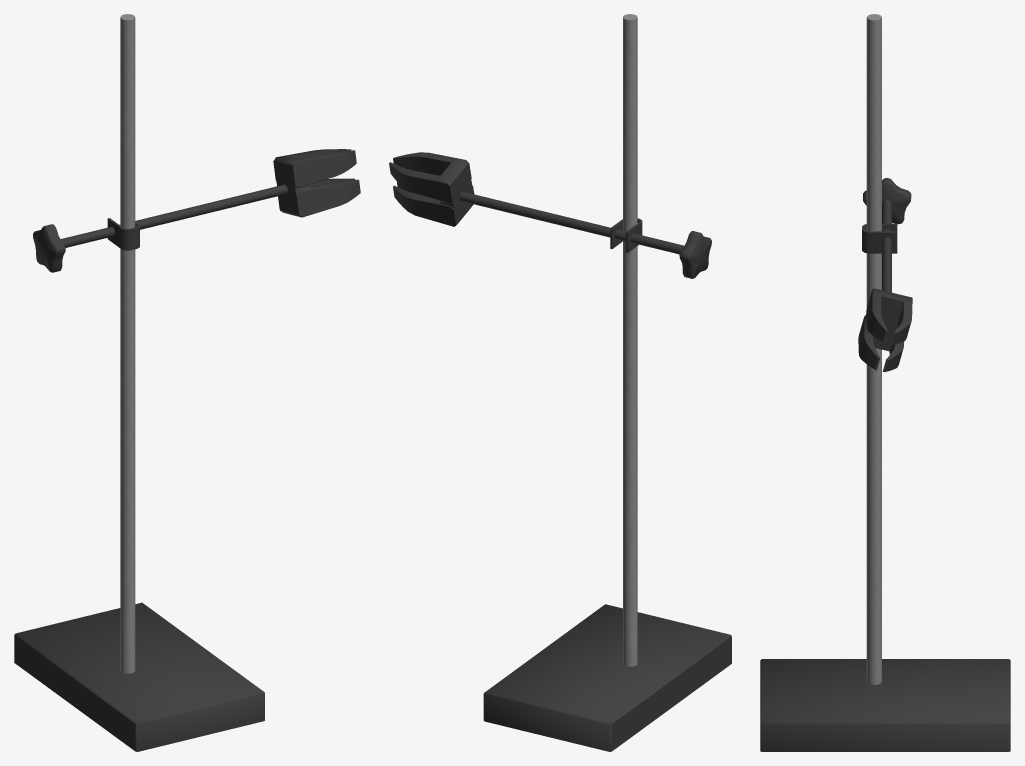
The model's file is SM_凯式定氮仪夹子_002.fbx.
3 renders of one model, left to right at view 1: azimuth 30°, elevation 25°; view 2: azimuth 150°, elevation 25°; view 3: azimuth 270°, elevation 25°, orthographic. The views are drawn at different scales.
Parts seen in each view (by area): view 1: SM_凯式定氮仪夹子_002; view 2: SM_凯式定氮仪夹子_002; view 3: SM_凯式定氮仪夹子_002.
Boxes of the visible parts, x1,y1,x2,y2 form: SM_凯式定氮仪夹子_002: (14,14,360,751); SM_凯式定氮仪夹子_002: (389,14,731,751); SM_凯式定氮仪夹子_002: (760,14,1010,751).
Size of the model in its own units: 0.2432 by 0.5107 by 0.1669.
